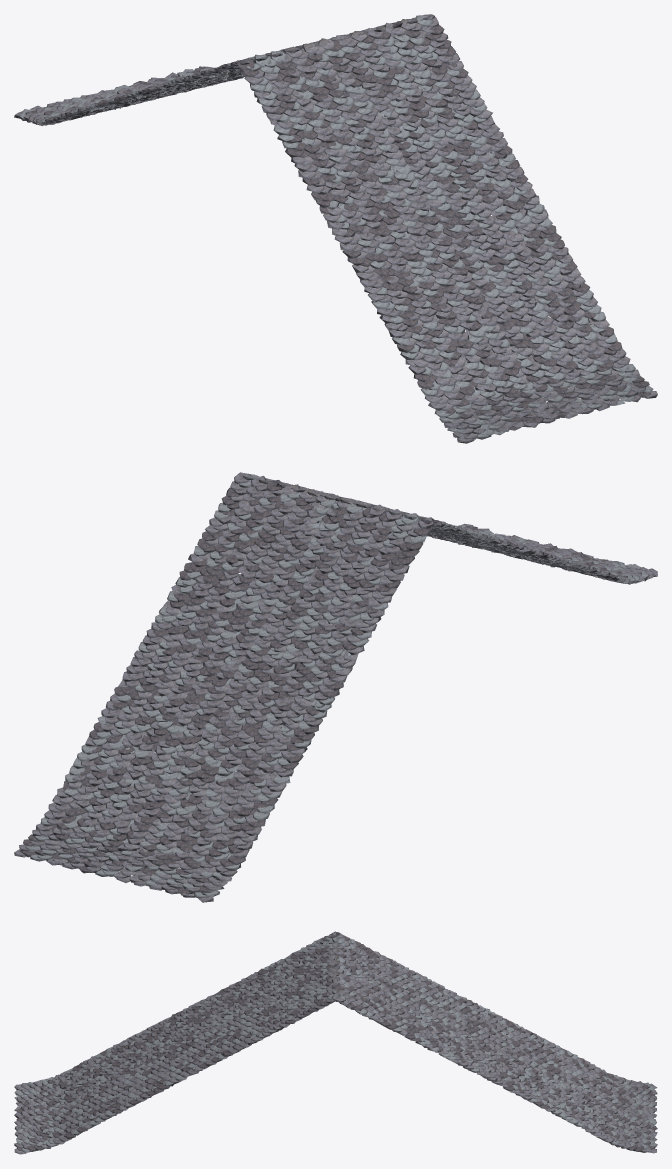
The model's file is SM_LargeRoof_01.fbx.
3 renders of one model, top to bottom at view 1: azimuth 30°, elevation 25°; view 2: azimuth 150°, elevation 25°; view 3: azimuth 270°, elevation 25°, orthographic. The views are drawn at different scales.
Visible parts, largest first — view 1: SM_LargeRoof_01_LOD0; view 2: SM_LargeRoof_01_LOD0; view 3: SM_LargeRoof_01_LOD0.
Boxes of the visible parts, <box> form: SM_LargeRoof_01_LOD0: <box>14,14,657,443</box>; SM_LargeRoof_01_LOD0: <box>14,472,657,902</box>; SM_LargeRoof_01_LOD0: <box>14,931,657,1154</box>.
Size of the model in its own units: 828 by 3225 by 861.
